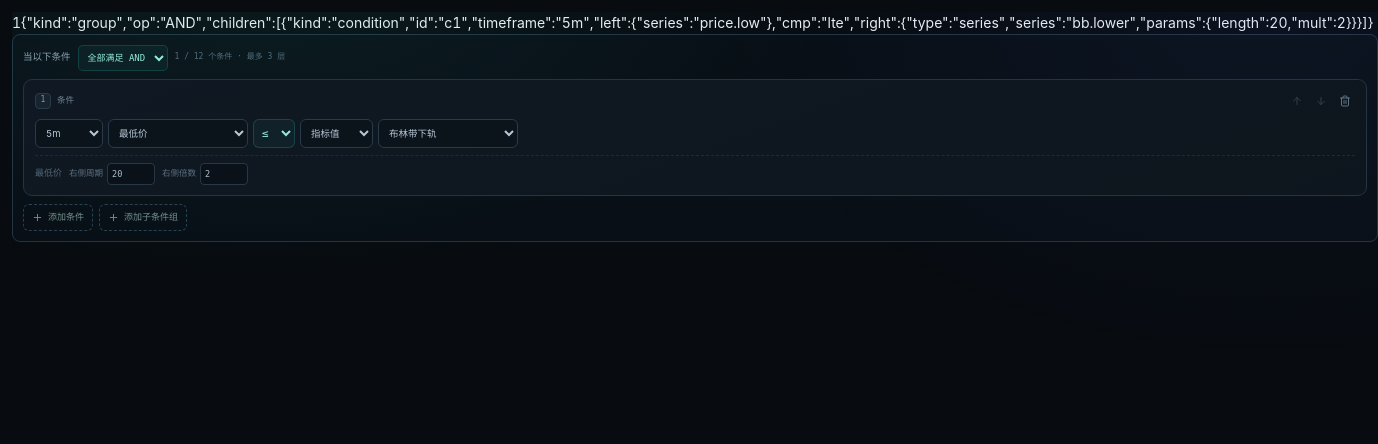
Test: RuleBuilder › edits series, comparator, logic mode and adds/removes conditions
The image size is (1378, 444).
Check: the text with test id "count" reads "1", box [12, 14, 21, 31]
Select "KDJ · J" in the dropdown named "条件 1 指标": x=178, y=133 [108, 119, 248, 148]
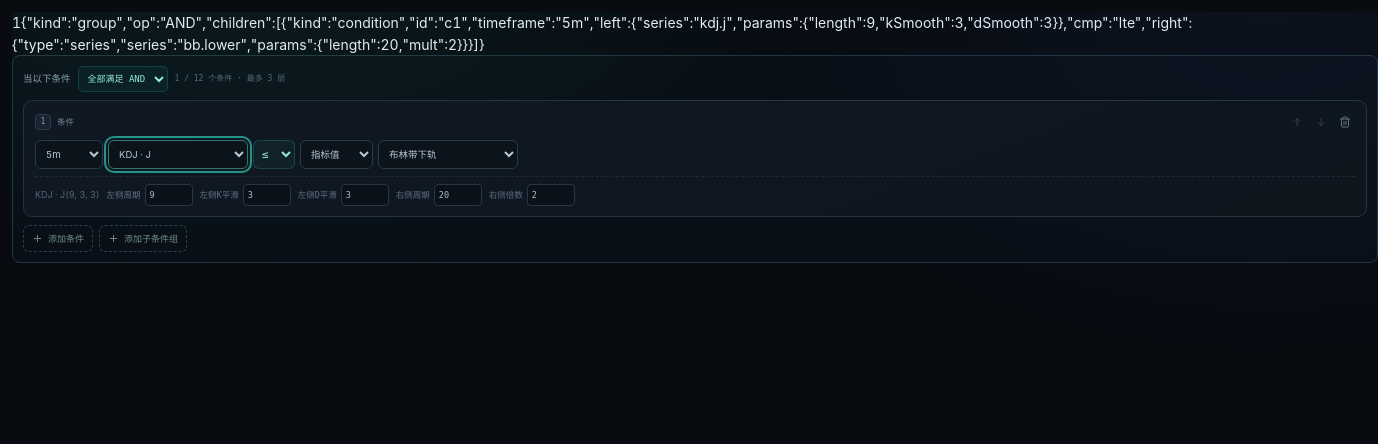
Select "≥" in the dropdown named "条件 1 比较符": x=274, y=155 [253, 140, 295, 169]
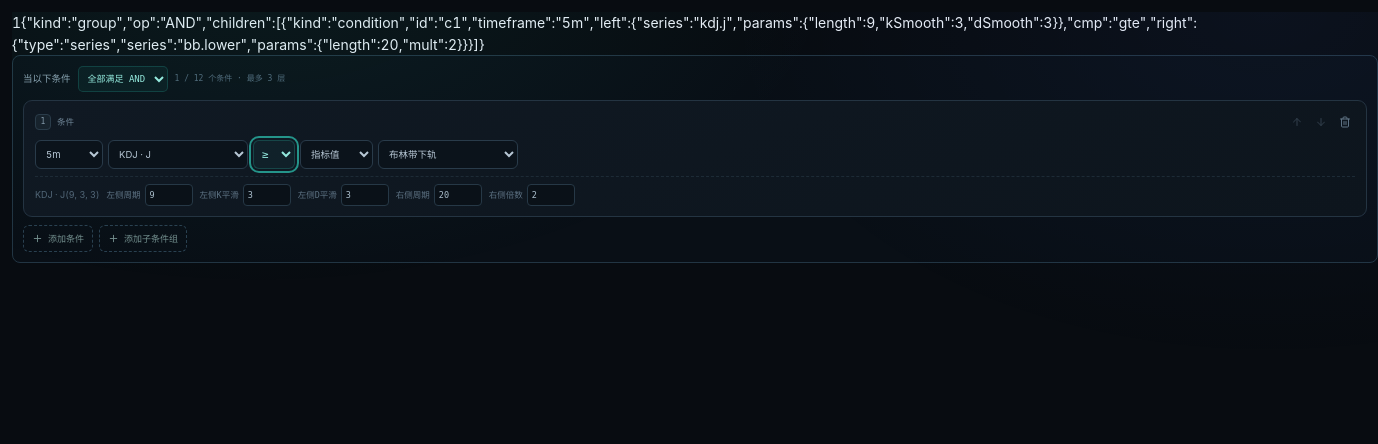
Select "任一满足 OR" in the dropdown named "条件组逻辑": x=122, y=79 [78, 66, 168, 92]
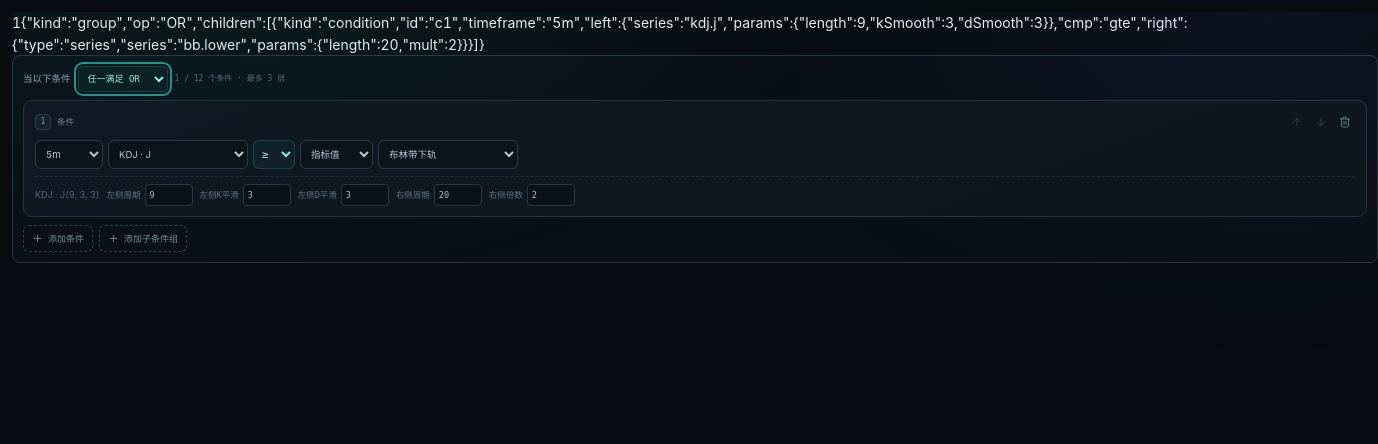
Click the button with test id "add-condition" showing "添加条件": x=58, y=239 [23, 225, 93, 252]
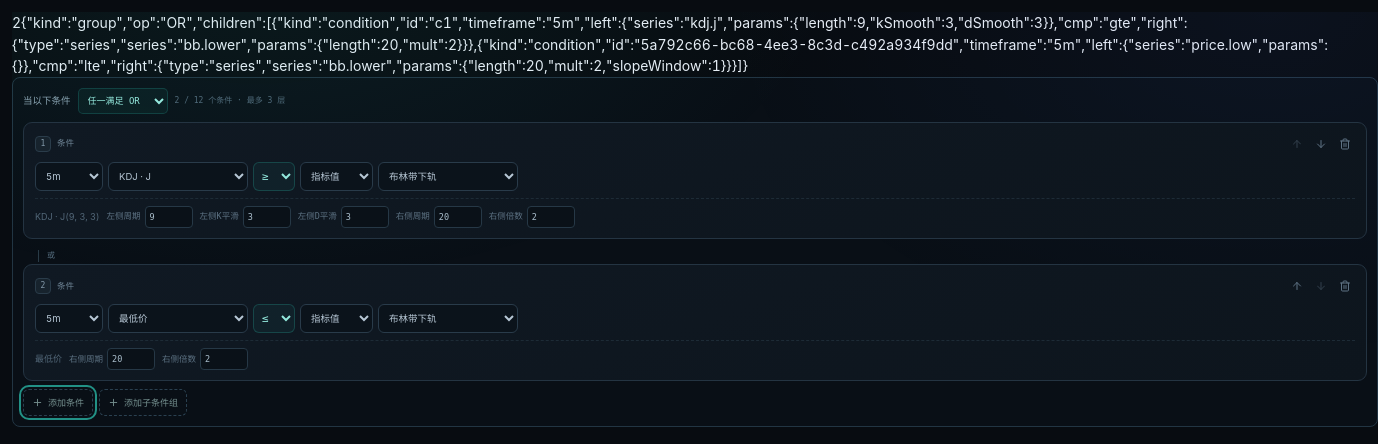
Check: the text with test id "count" reads "2", box [12, 14, 21, 31]
Check: the number of buttons named "删除条件" is 2
Click the 1st button named "删除条件": x=1344, y=144 [1333, 133, 1355, 155]
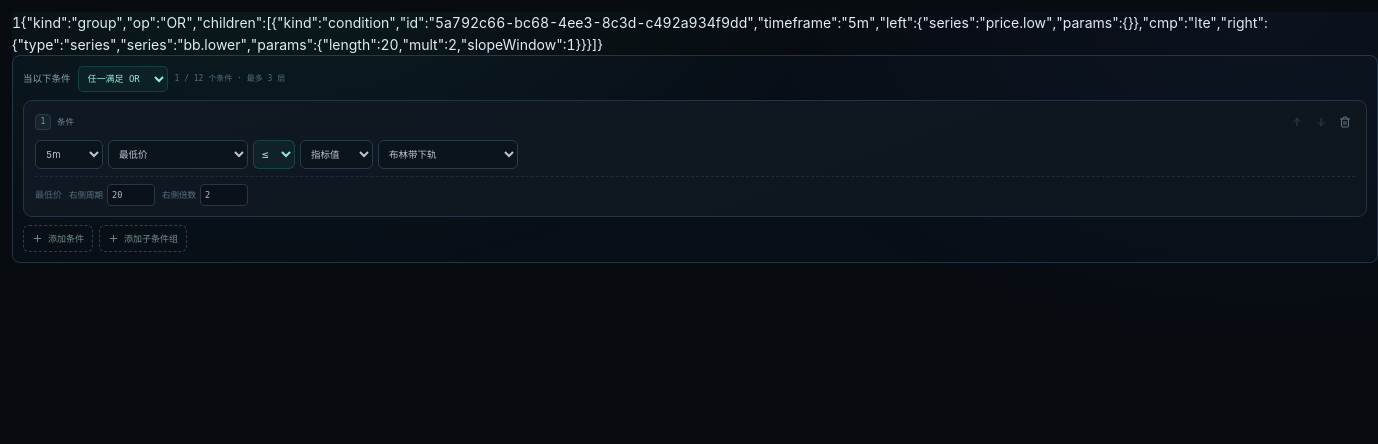
Check: the text with test id "count" reads "1", box [12, 14, 21, 31]
